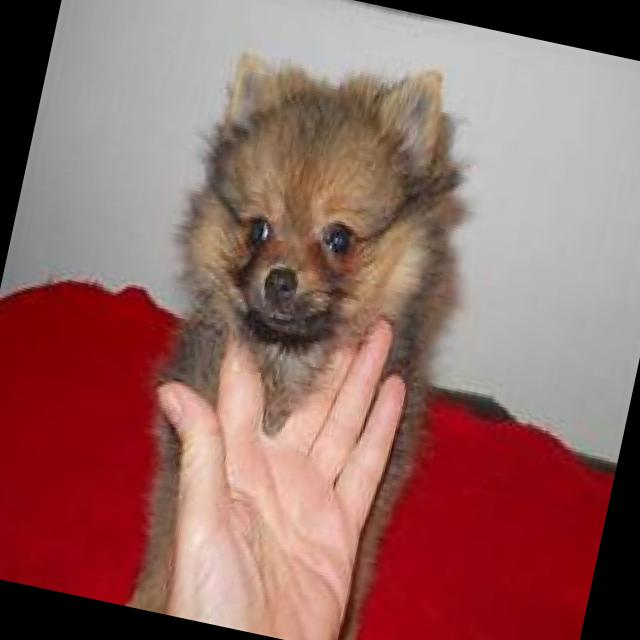animal: (97, 21, 506, 640)
